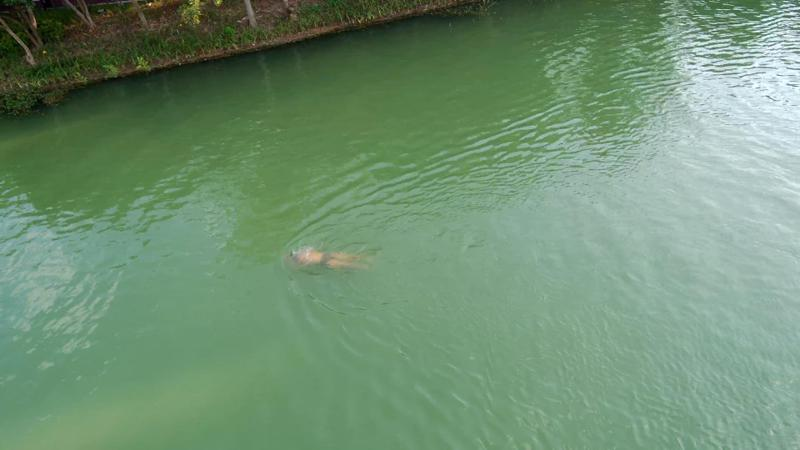swimmers: (285, 247, 375, 275)
